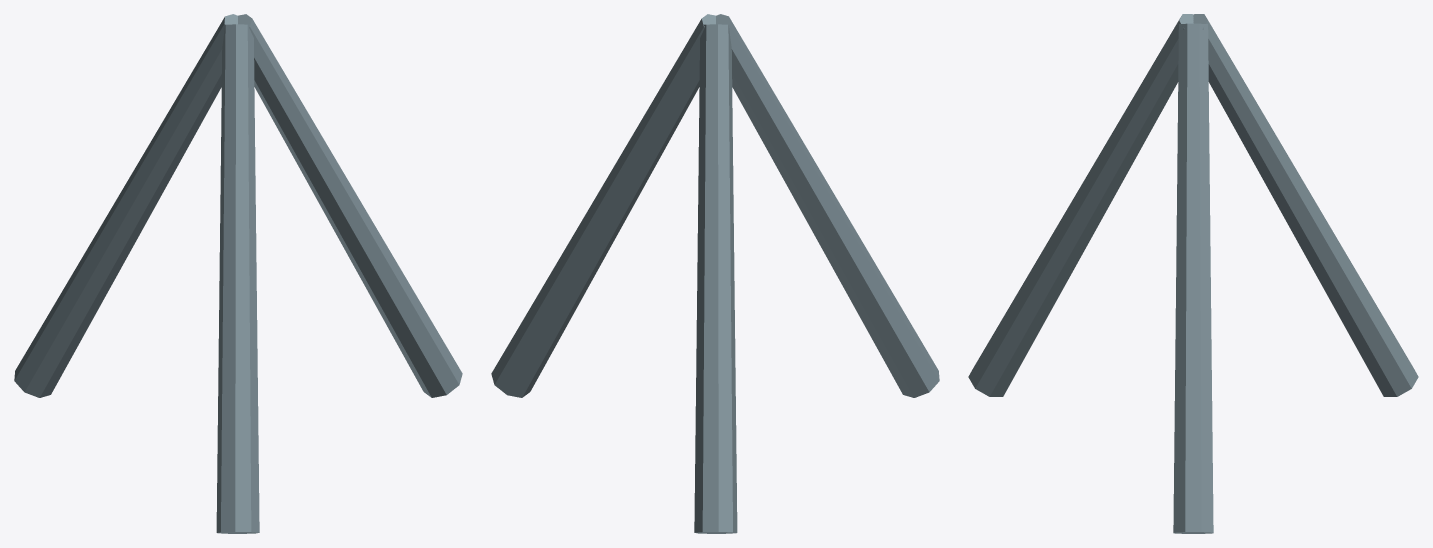
Rendered from Frontier_SurveyTripod_Tripod.glb.
The picture shows the model from 3 angles, left to right: view 1: azimuth 30°, elevation 25°; view 2: azimuth 150°, elevation 25°; view 3: azimuth 270°, elevation 25°; orthographic projection.
Parts seen in each view (by area): view 1: Frontier_SurveyTripod_Tripod; view 2: Frontier_SurveyTripod_Tripod; view 3: Frontier_SurveyTripod_Tripod.
Boxes of the visible parts, box(x1,y1,x2,y2) form: Frontier_SurveyTripod_Tripod: box(14, 14, 462, 533); Frontier_SurveyTripod_Tripod: box(491, 14, 939, 533); Frontier_SurveyTripod_Tripod: box(968, 14, 1418, 533).
Size of the model in its own units: 0.9976 by 1.18 by 1.14.
